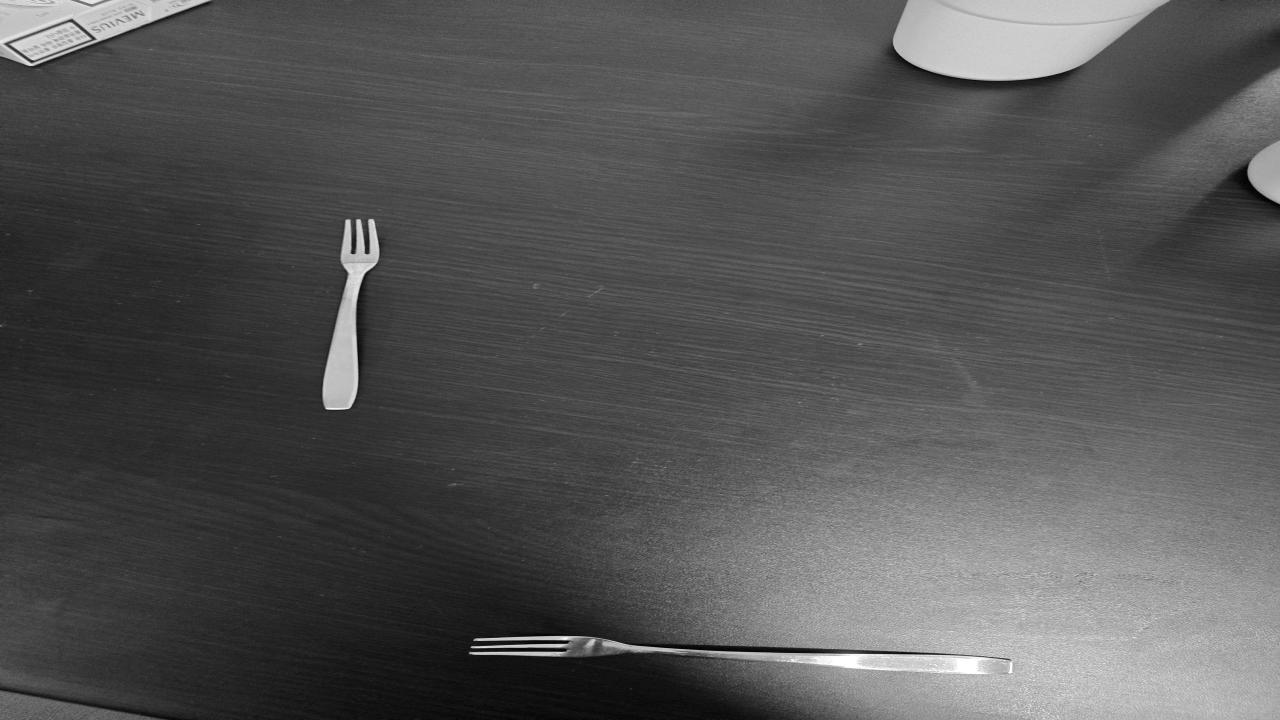fork: (466, 632, 1012, 674), (314, 217, 386, 416)
